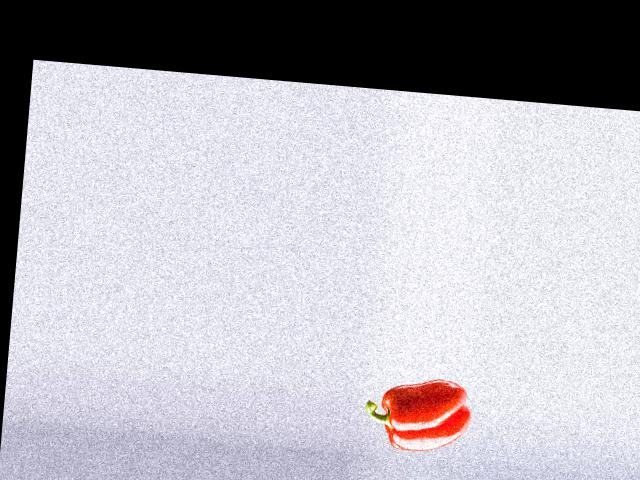bell_pepper: (361, 372, 471, 458)
